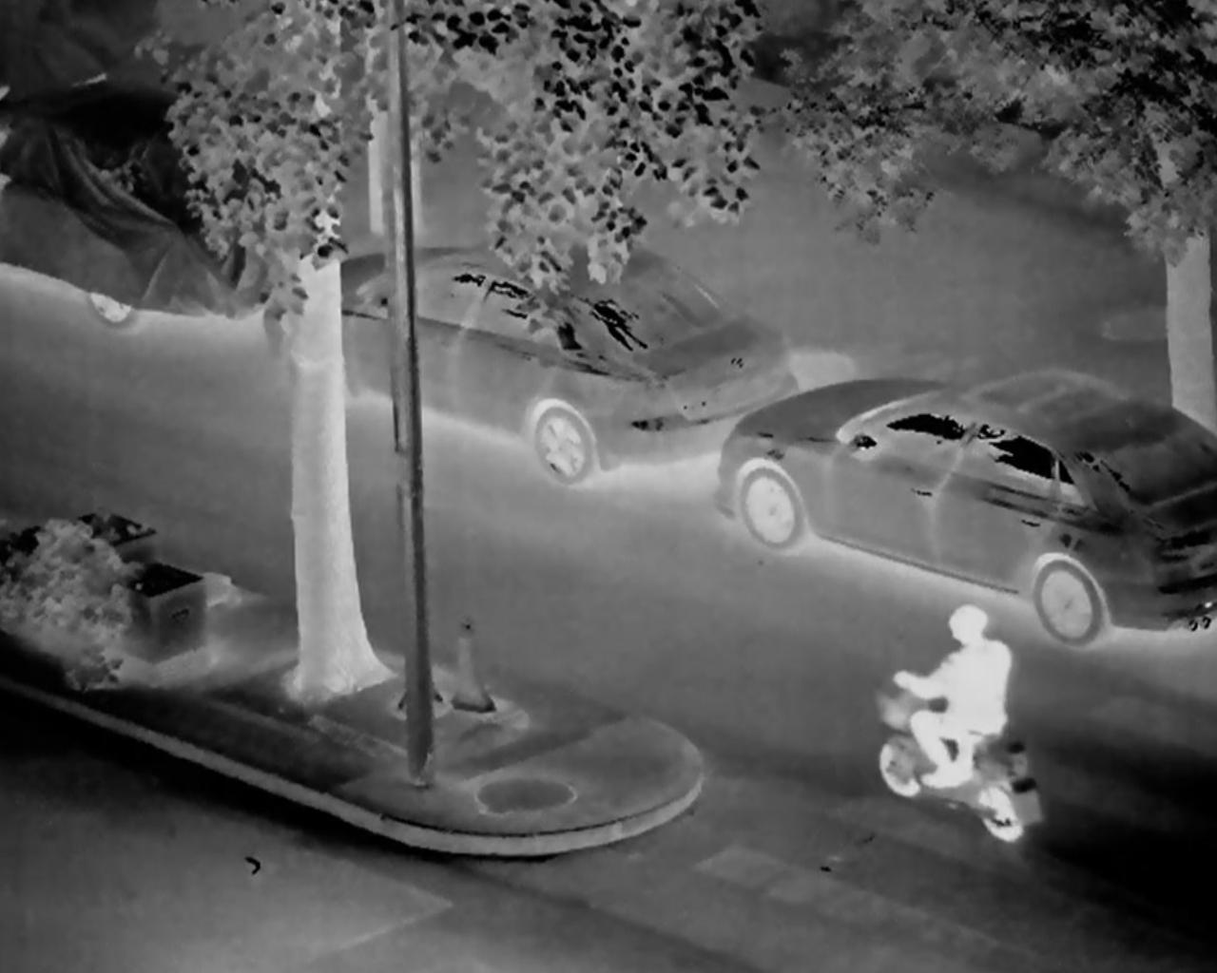person: (898, 596, 1037, 829)
